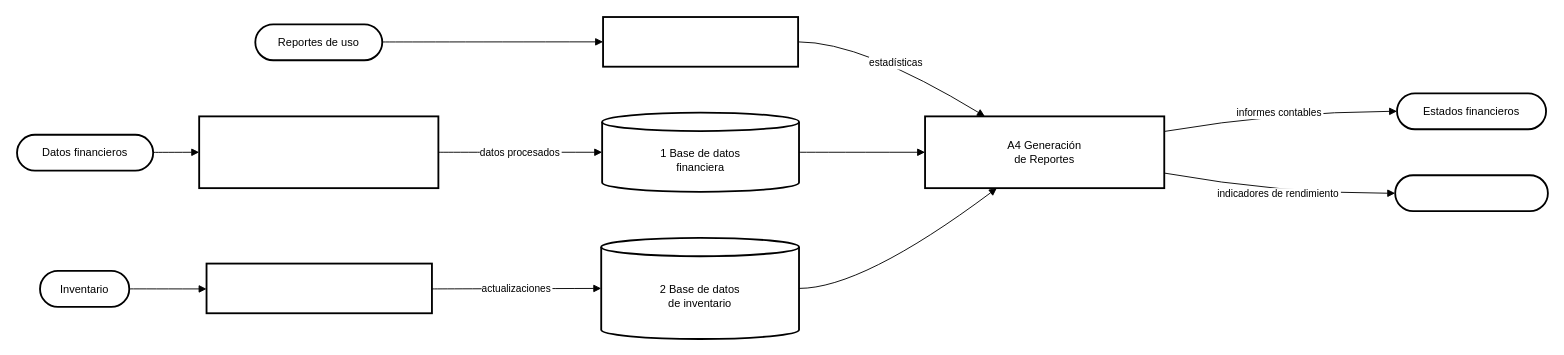
Some shapes in this 1564 by 355 pixel diagram are drawn without their labels. The shapes that lost their labels are listed below. From the top down, each one's centre as x and y in pixels, then its label:
the point at 700,41: A3 Análisis de Datos
the point at 318,152: A1 Registro de Transacciones
the point at 1471,193: Reportes de gestión
the point at 318,288: A2 Control de Inventario
